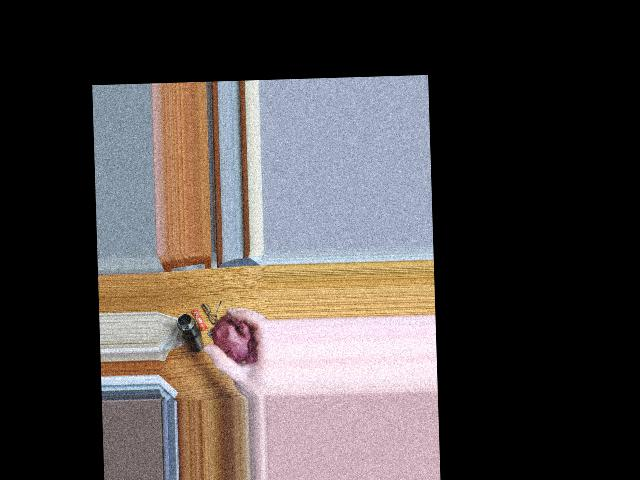onion: (218, 315, 249, 354)
